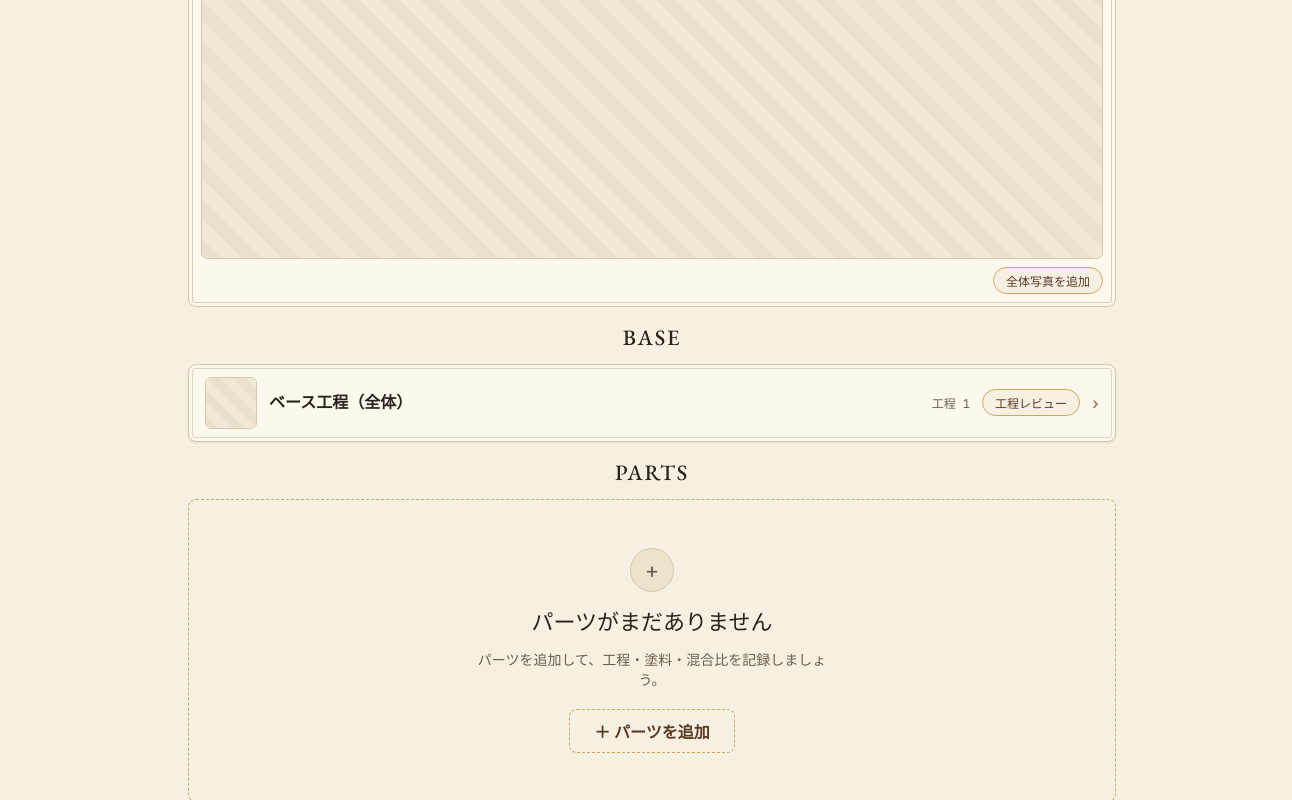
Test case: RecipeOverviewPage — BASEセクション（PARTS同様の独立カード。2026-07-03） › ベース工程1件以上ならBASEカード（PartCard）を表示し、タップで/recipe/:id/part/baseへnavigateする
(page scrolled)
Click the text "ベース工程（全体）": {"x": 341, "y": 402} [269,392,412,412]
(page scrolled)
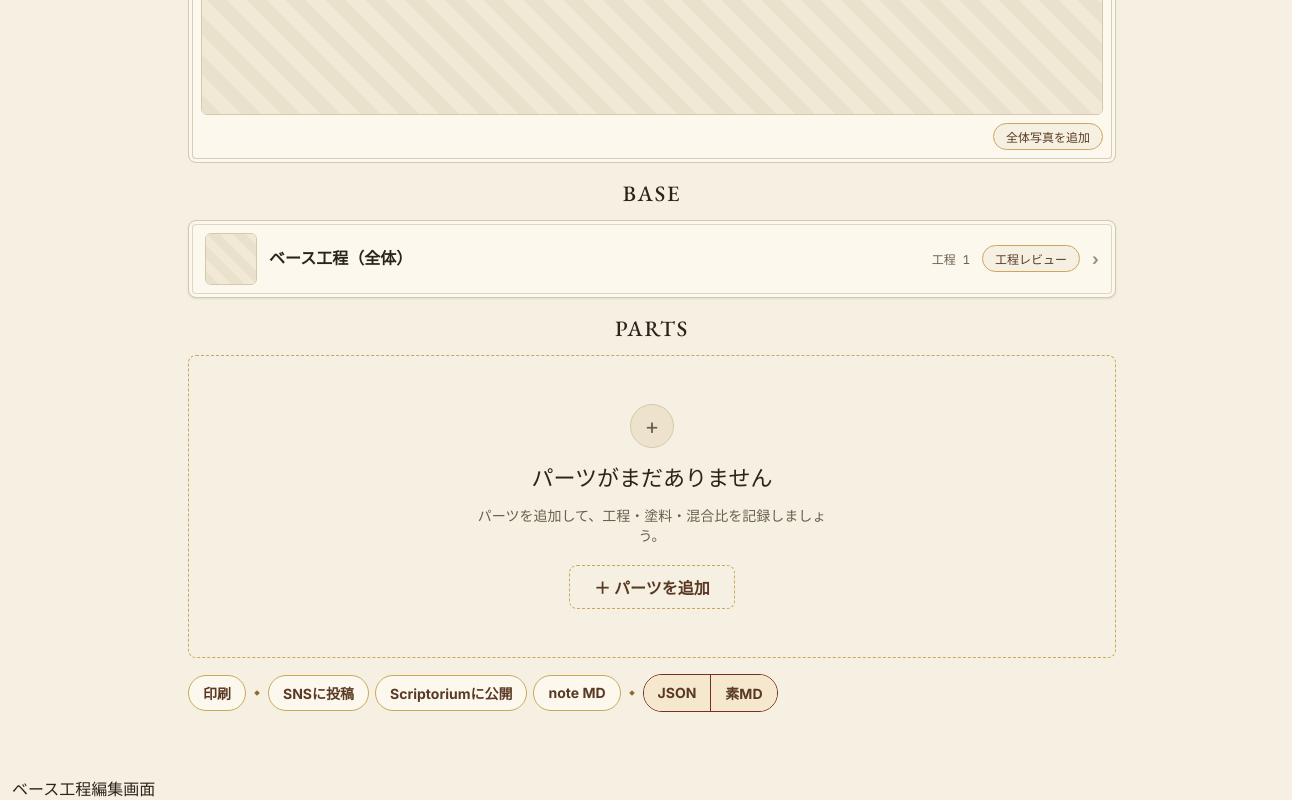
Result: the text "ベース工程編集画面" is shown at [12,778,155,798]
